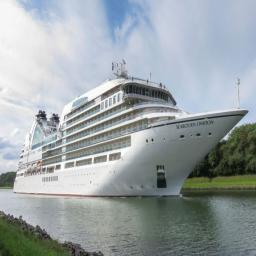cruises: (12, 60, 250, 204)
